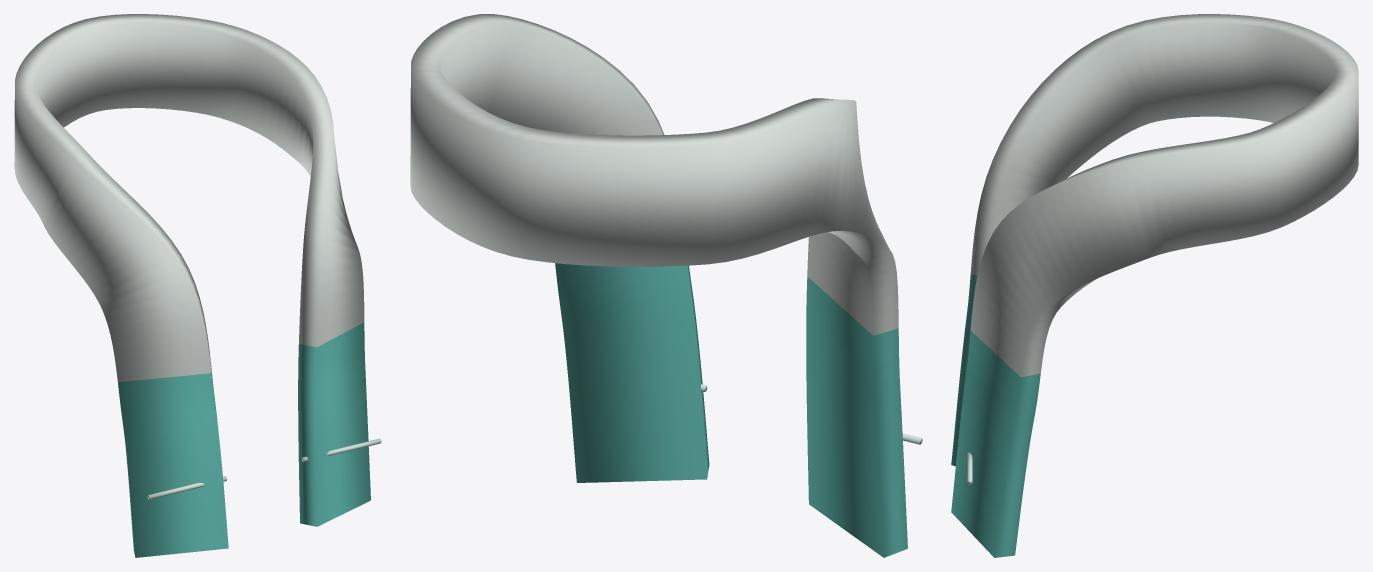
Rendered from towel_gym.fbx.
3 renders of one model, left to right at view 1: azimuth 30°, elevation 25°; view 2: azimuth 150°, elevation 25°; view 3: azimuth 270°, elevation 25°, orthographic. The views are drawn at different scales.
Visible parts, largest first — view 1: Towel_Draped; view 2: Towel_Draped; view 3: Towel_Draped.
Boxes of the visible parts, x1,y1,x2,y2 form: Towel_Draped: [14, 14, 370, 557]; Towel_Draped: [410, 14, 907, 557]; Towel_Draped: [951, 14, 1358, 557].
Size of the model in its own units: 0.1986 by 0.2656 by 0.2306.
